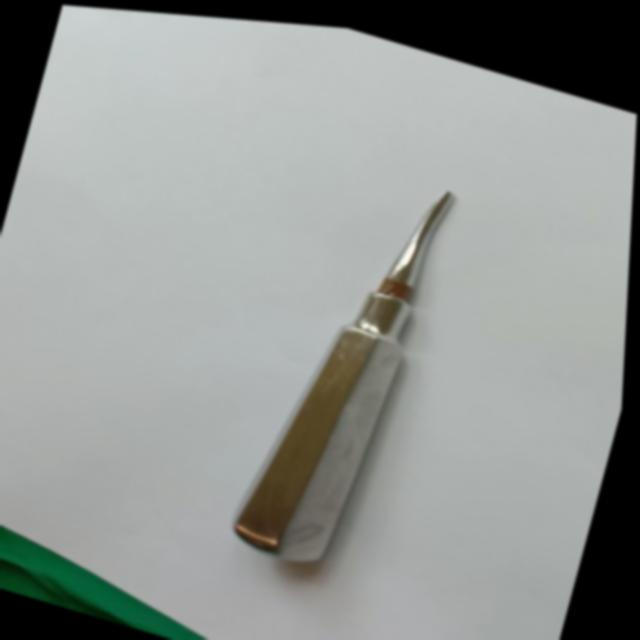Coupland1: (216, 137, 475, 583)
